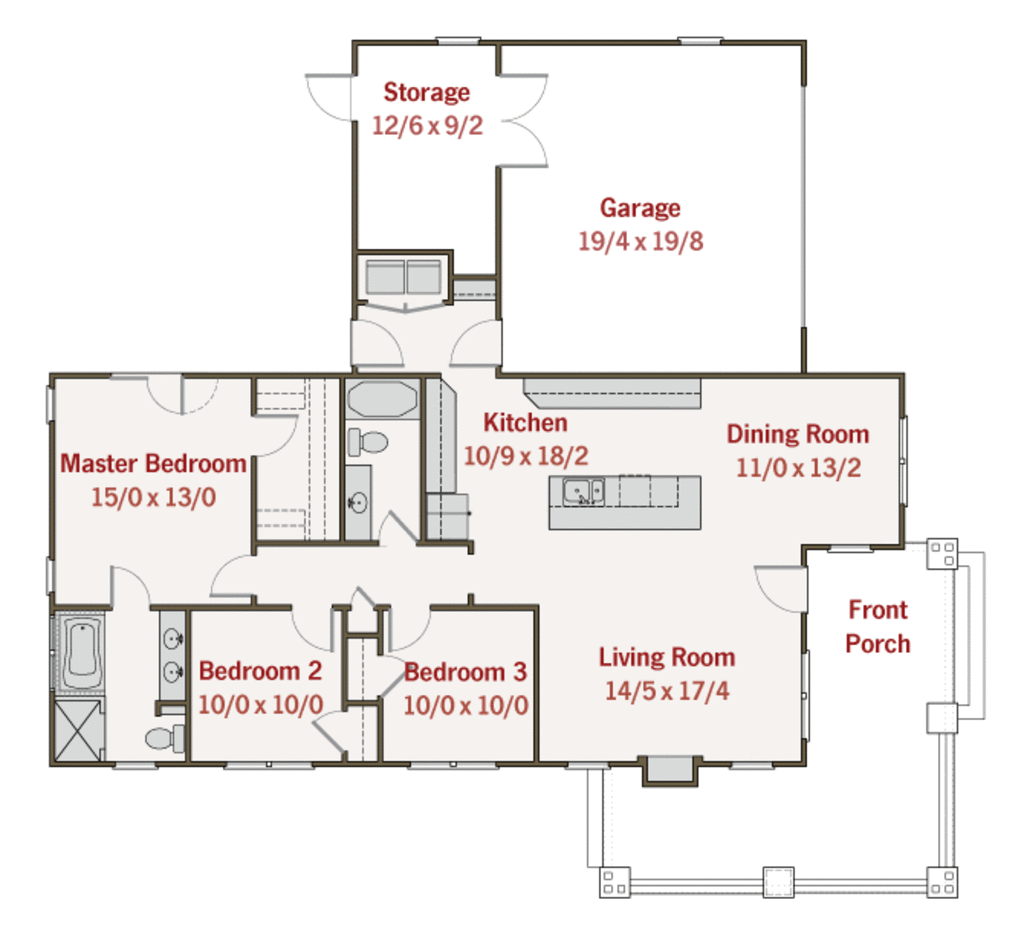door: (501, 75, 552, 166), (302, 62, 365, 127), (752, 561, 817, 619), (443, 310, 505, 365), (192, 551, 257, 603), (346, 317, 407, 369), (101, 562, 159, 608), (285, 607, 337, 658), (382, 611, 434, 655), (383, 652, 420, 698), (379, 508, 415, 551), (312, 711, 346, 756), (146, 372, 179, 416)
large_sink: (346, 422, 392, 468), (146, 726, 195, 762)
small_sink: (152, 611, 192, 707), (341, 461, 378, 539)
small_sofa: (366, 259, 450, 298)
tub: (54, 614, 107, 690), (344, 378, 424, 424)
twin_sink: (554, 468, 601, 508)
window: (410, 758, 504, 775), (221, 758, 305, 772), (724, 751, 779, 772), (560, 752, 611, 774)
